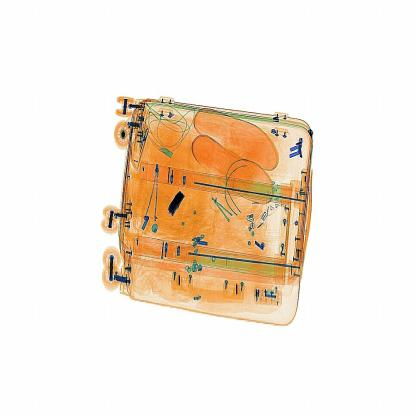scissors: (168, 188, 188, 221)
